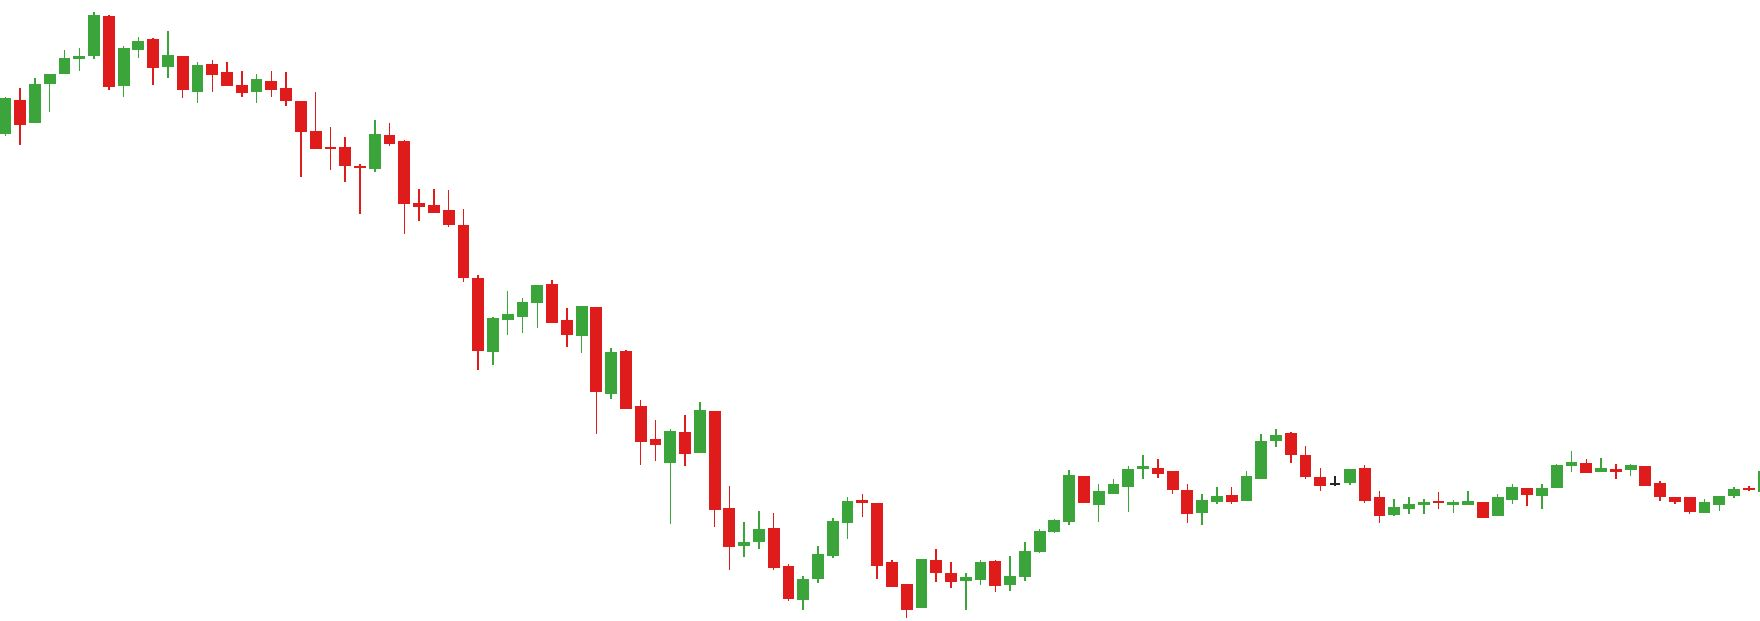buy: (795, 520, 932, 617)
sell: (1136, 431, 1312, 475)
